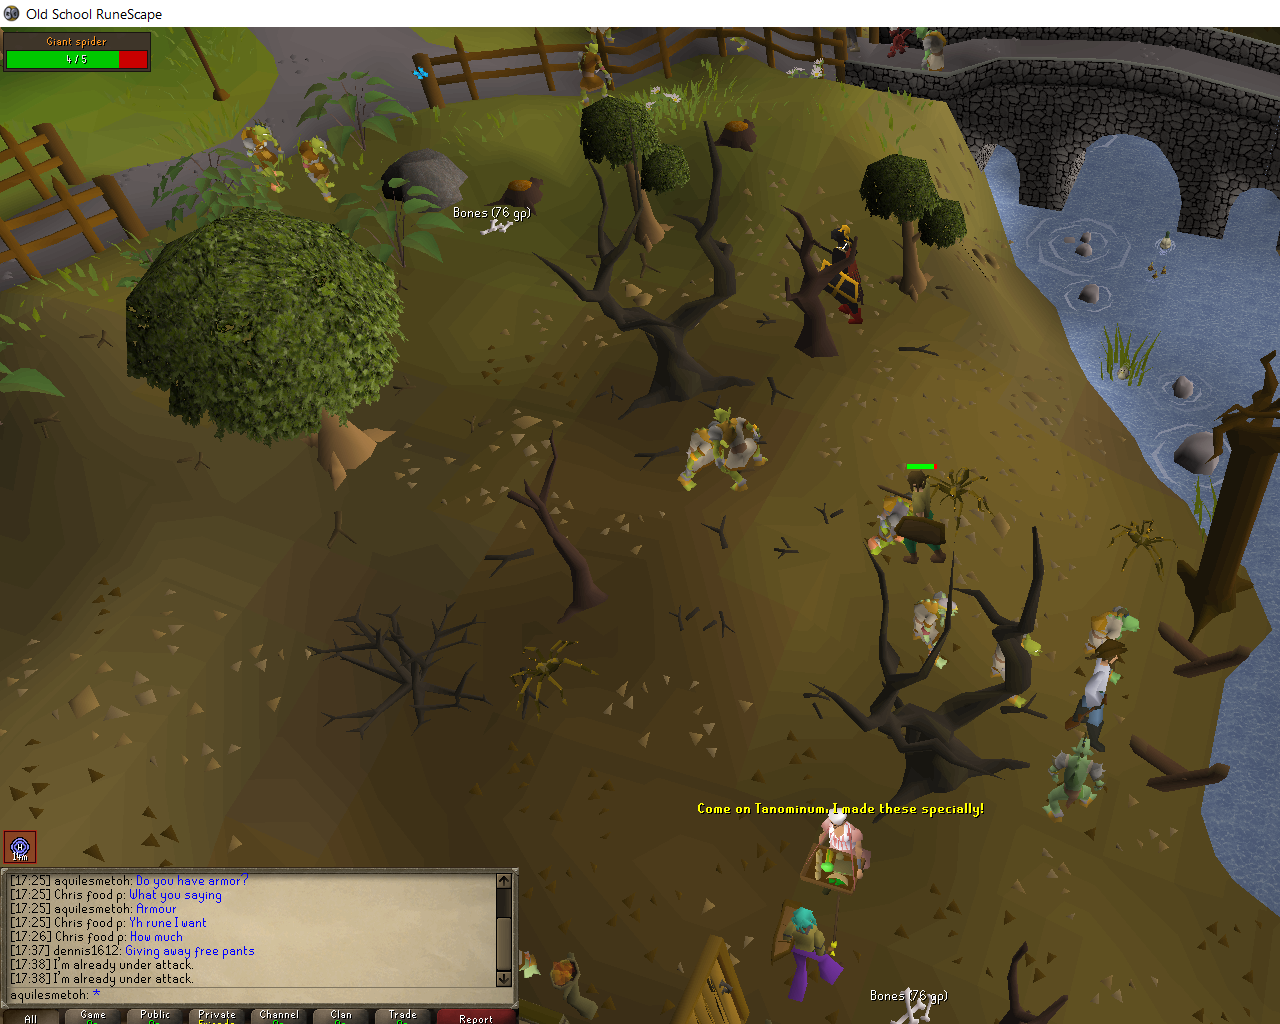Goblin: (705, 403, 777, 494), (1041, 734, 1109, 827), (1083, 607, 1143, 697), (294, 133, 357, 208), (234, 116, 290, 199), (909, 591, 968, 670), (864, 488, 921, 565), (990, 629, 1042, 712), (676, 424, 727, 499), (568, 43, 623, 108), (912, 26, 956, 76)
